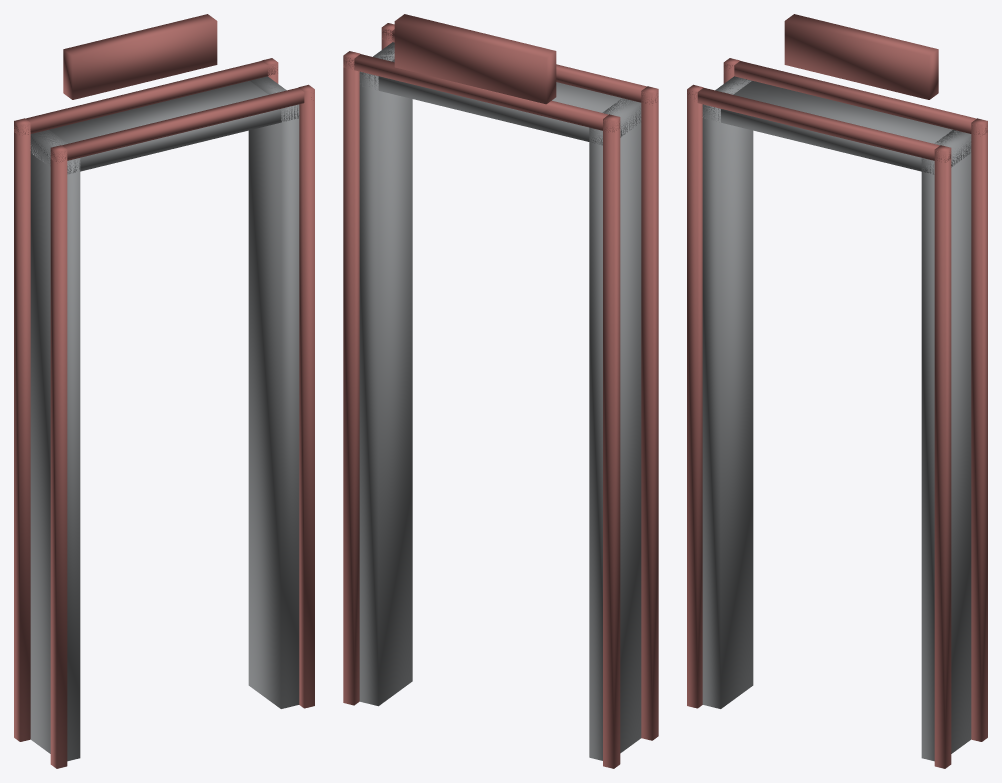
Rendered from doorway_emergency_exit_w86_h240_d24.glb.
3 renders of one model, left to right at view 1: azimuth 30°, elevation 25°; view 2: azimuth 150°, elevation 25°; view 3: azimuth 330°, elevation 25°, orthographic. The views are drawn at different scales.
Parts seen in each view (by area): view 1: world; view 2: world; view 3: world.
Boxes of the visible parts, x1,y1,x2,y2 form: world: (14, 14, 314, 768); world: (343, 14, 658, 768); world: (687, 14, 987, 768).
Bounding box in the file's own units: 1.1 × 2.74 × 0.3733.
